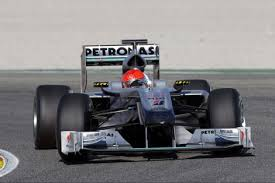FormulaOneCar: (28, 37, 261, 163)
